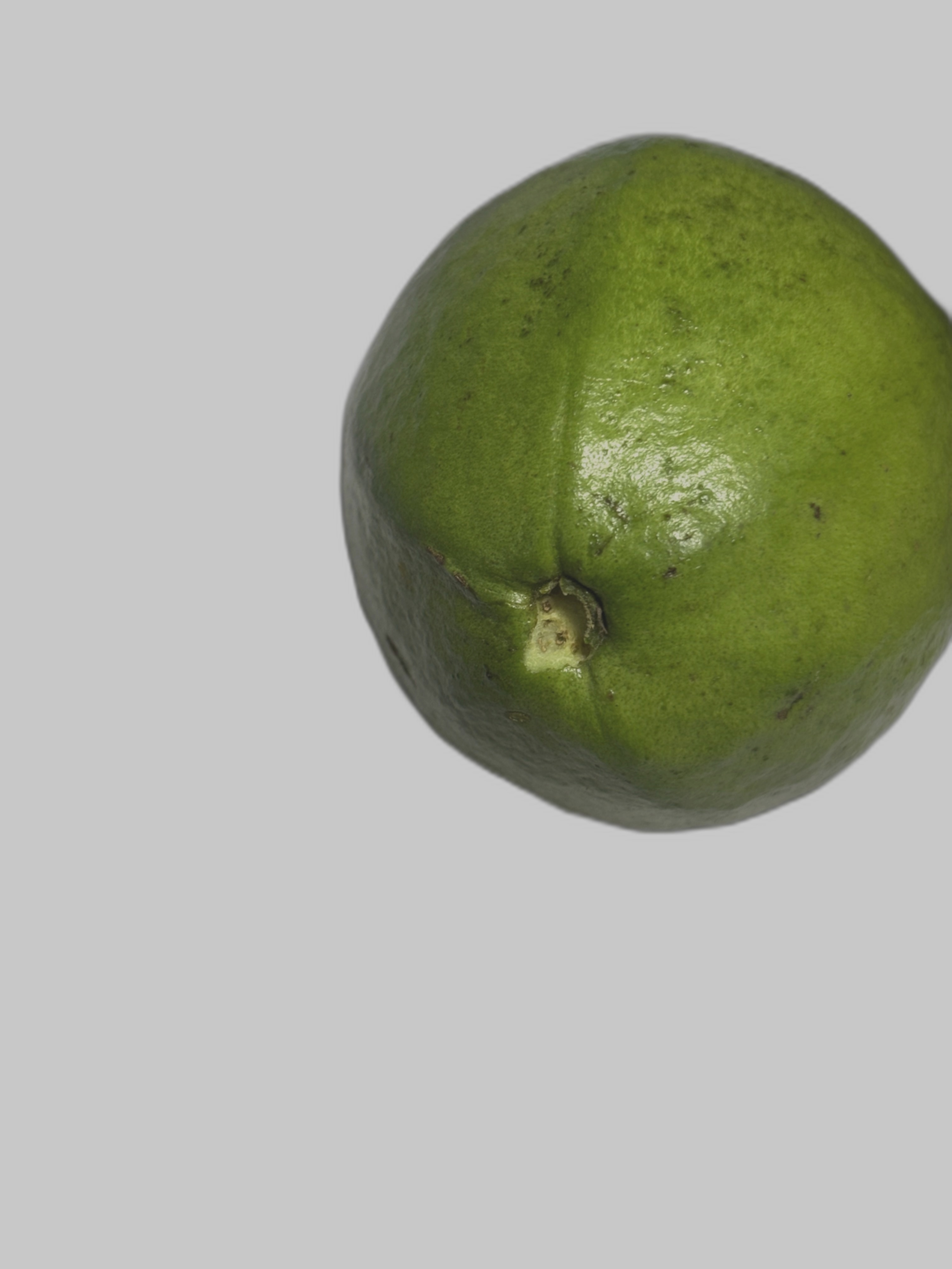guava: (214, 0, 857, 1111)
